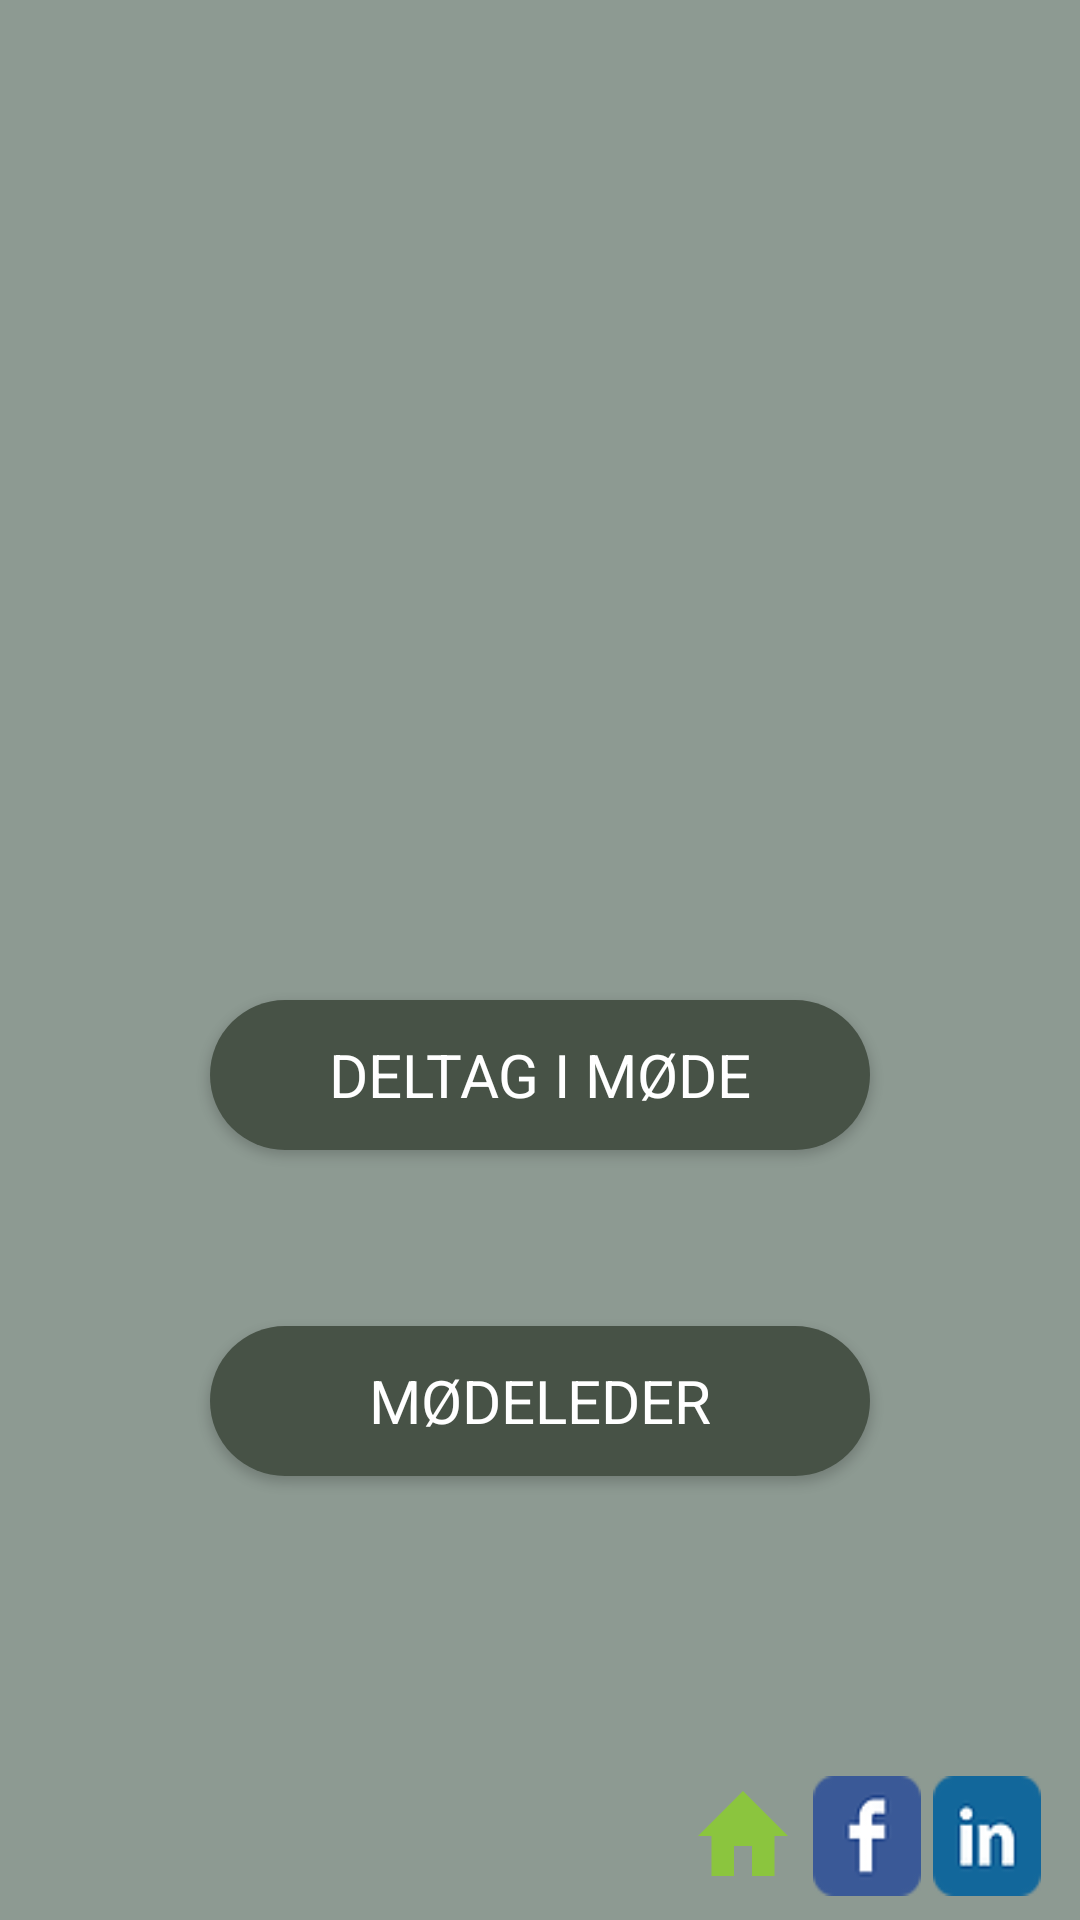

Icon click points for this 1080px x 1920px phone screenshot, format [x,y]:
website home: [743,1833]
